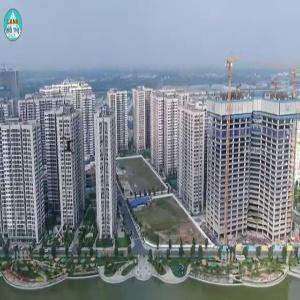drone: (45, 123, 92, 170)
